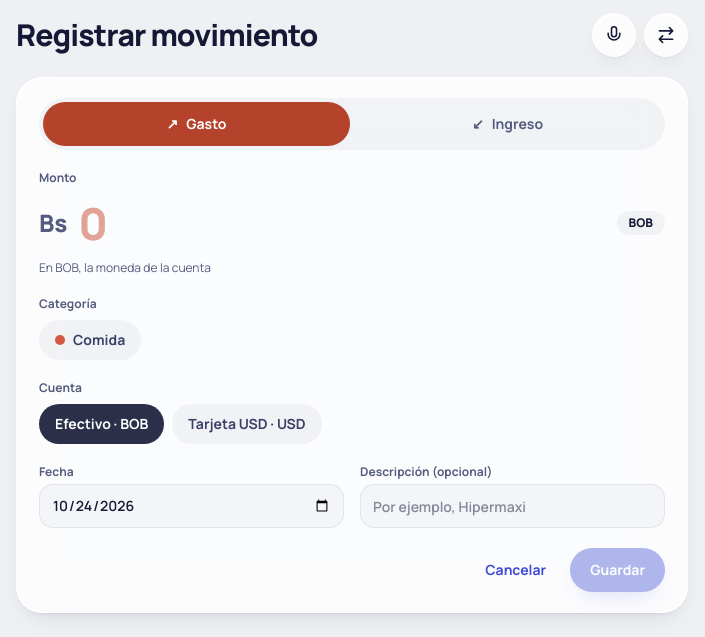
Test: registro por voz › RF-9 Descartar discards the dictation
Click the button named "Dictar": (614, 34) [592,12,636,56]
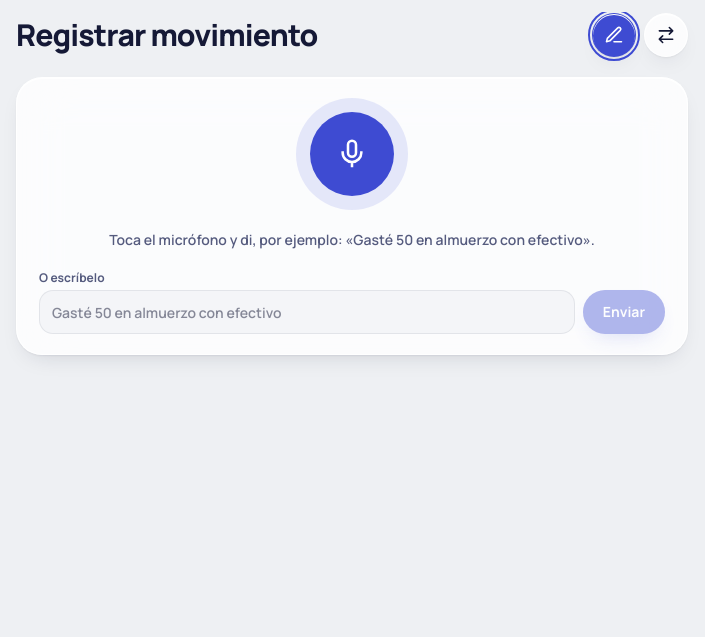
In the field labelled "O escríbelo": (307, 312) [39,290,575,334], type "Gasté 50"
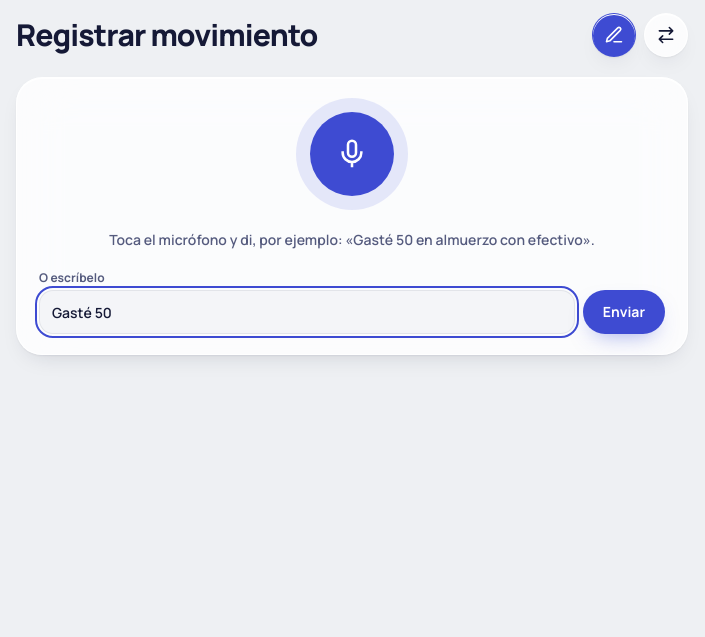
Click the button "Enviar": (624, 312) [583,290,665,334]
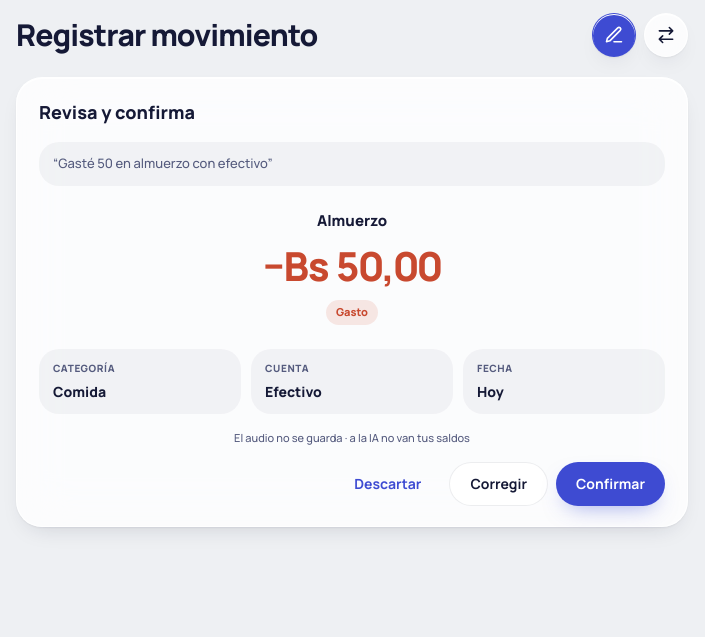
Click the button "Descartar": (388, 484) [334,462,441,506]
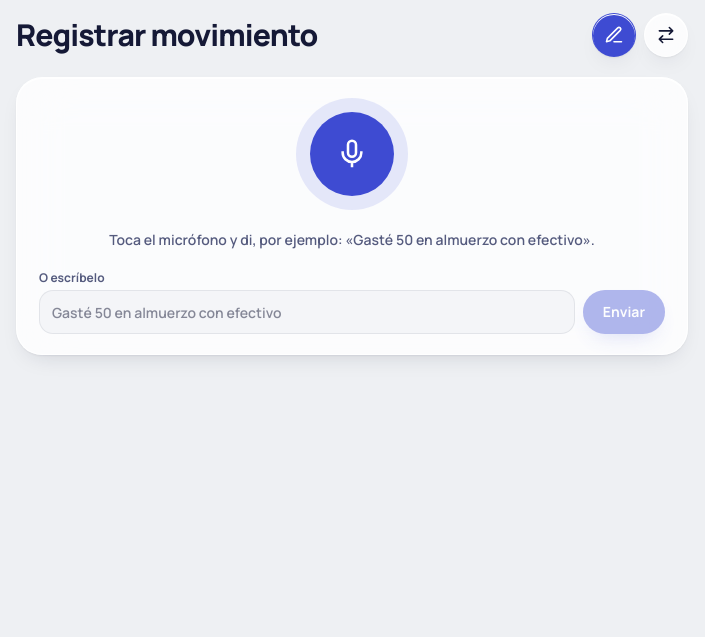
Now the field labelled "O escríbelo" is shown, box [39,290,575,334]
